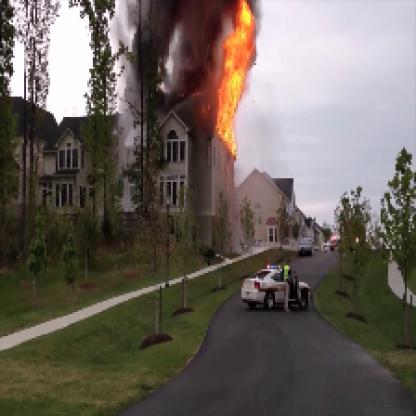Fire: (202, 2, 262, 161)
Smoke: (119, 2, 238, 124)
